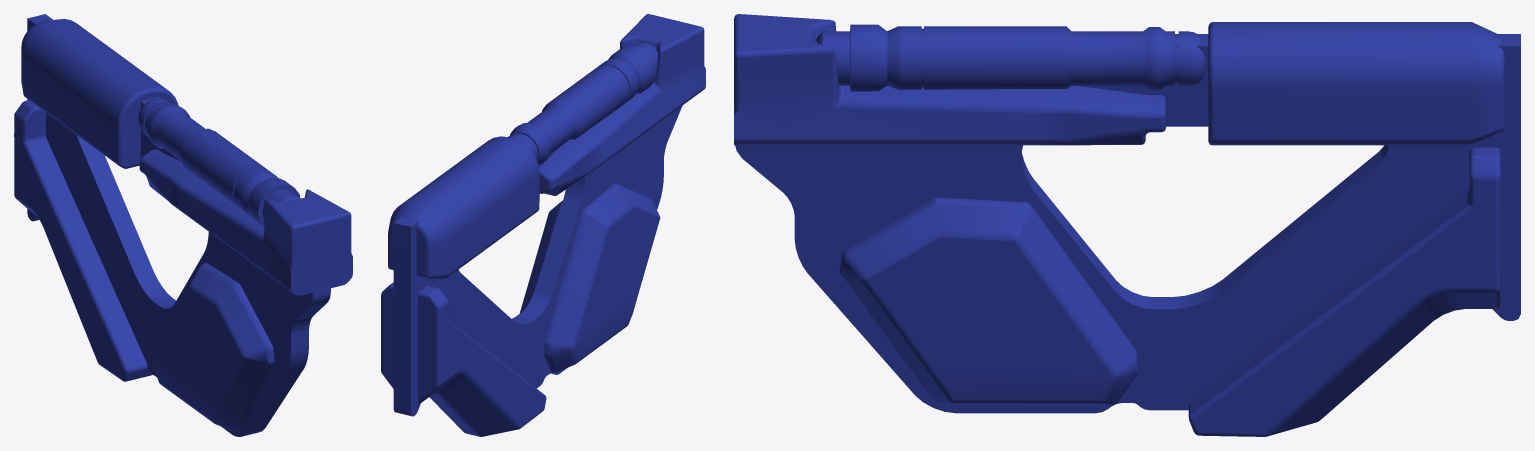
Rendered from part_stock_04.fbx.
The picture shows the model from 3 angles, left to right: view 1: azimuth 30°, elevation 25°; view 2: azimuth 150°, elevation 25°; view 3: azimuth 270°, elevation 25°; orthographic projection. The views are drawn at different scales.
Parts seen in each view (by area): view 1: part_stock_04; view 2: part_stock_04; view 3: part_stock_04.
Boxes of the visible parts, box(x1,y1,x2,y2) form: part_stock_04: box(14, 14, 352, 436); part_stock_04: box(381, 14, 705, 436); part_stock_04: box(734, 14, 1520, 436).
Size of the model in its own units: 6.07 by 26.25 by 48.
